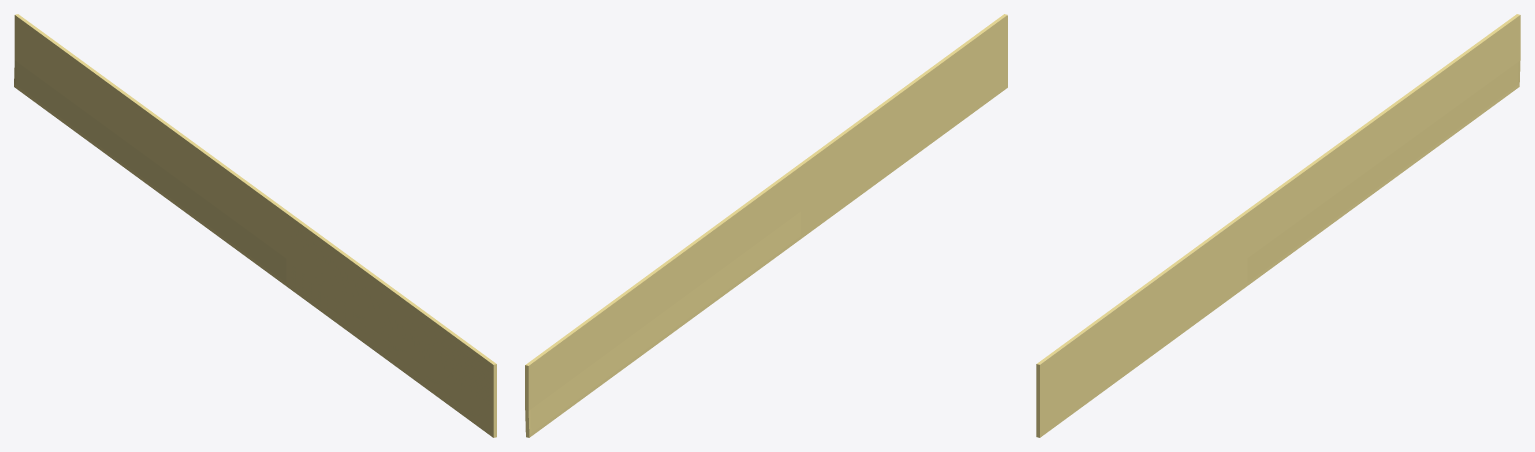
Rendered from interior_school_room_east_01_openDoor_invisible.fbx.
3 views of the same model, side by side, from view 1: azimuth 30°, elevation 25°; view 2: azimuth 150°, elevation 25°; view 3: azimuth 330°, elevation 25° (orthographic).
Visible parts, largest first — view 1: Invisible Mesh; view 2: Invisible Mesh; view 3: Invisible Mesh.
Boxes of the visible parts, box(x1,y1,x2,y2) form: Invisible Mesh: box(14, 14, 496, 437); Invisible Mesh: box(525, 14, 1007, 437); Invisible Mesh: box(1036, 14, 1520, 437).
Size of the model in its own units: 23.58 by 394 by 4694.
